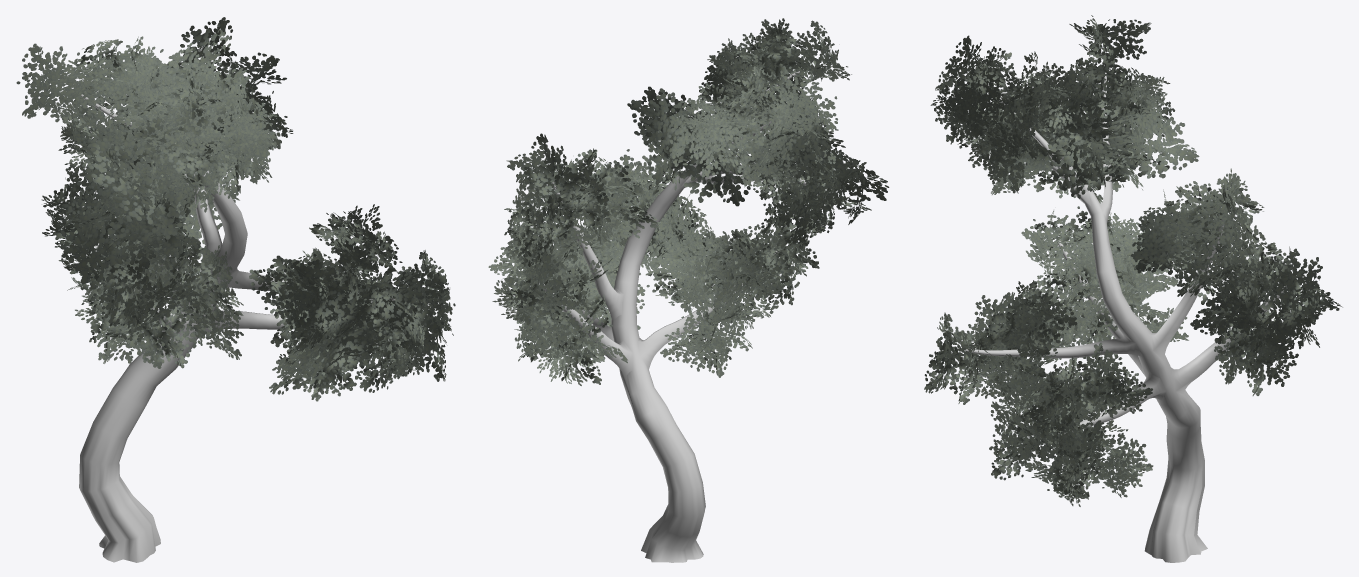
File: SM_Tree_C_02.fbx
The picture shows the model from 3 angles, left to right: view 1: azimuth 30°, elevation 25°; view 2: azimuth 150°, elevation 25°; view 3: azimuth 270°, elevation 25°; orthographic projection. The views are drawn at different scales.
Visible parts, largest first — view 1: SM_Tree_C_02_LOD0; view 2: SM_Tree_C_02_LOD0; view 3: SM_Tree_C_02_LOD0.
Boxes of the visible parts, x1,y1,x2,y2 form: SM_Tree_C_02_LOD0: [16, 17, 455, 562]; SM_Tree_C_02_LOD0: [488, 18, 889, 562]; SM_Tree_C_02_LOD0: [924, 15, 1342, 562].
Size of what is drawn, in the model's own units: 12.7 by 15.91 by 12.12.
